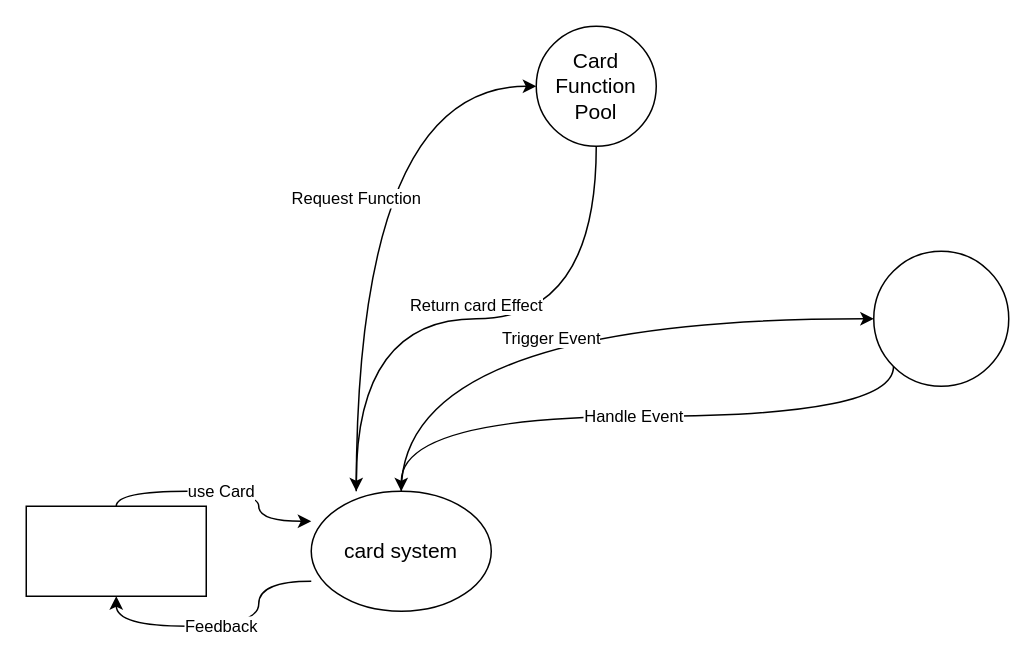
The diagram is 1035 pixels wide and 662 high, and some of its shapes have lost their labels. Each missing label, with the centre of its shape:
"Card Delegate Manager" goes at point 940,318.
"player" goes at point 115,550.
